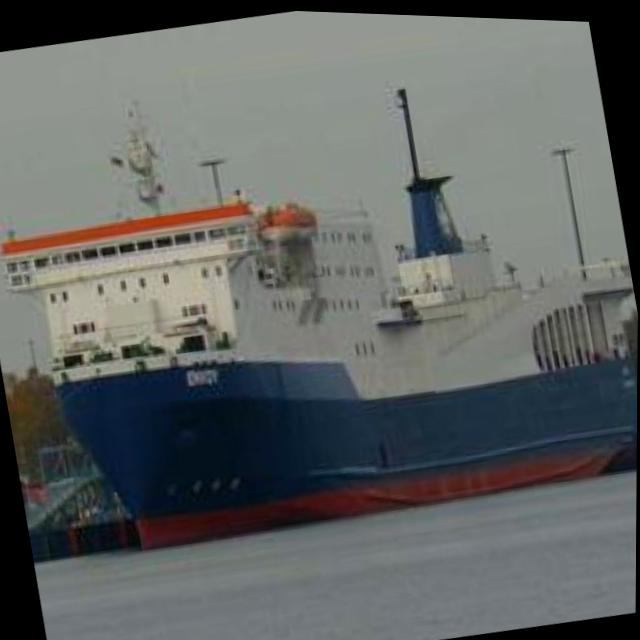ship2: (0, 84, 638, 552)
